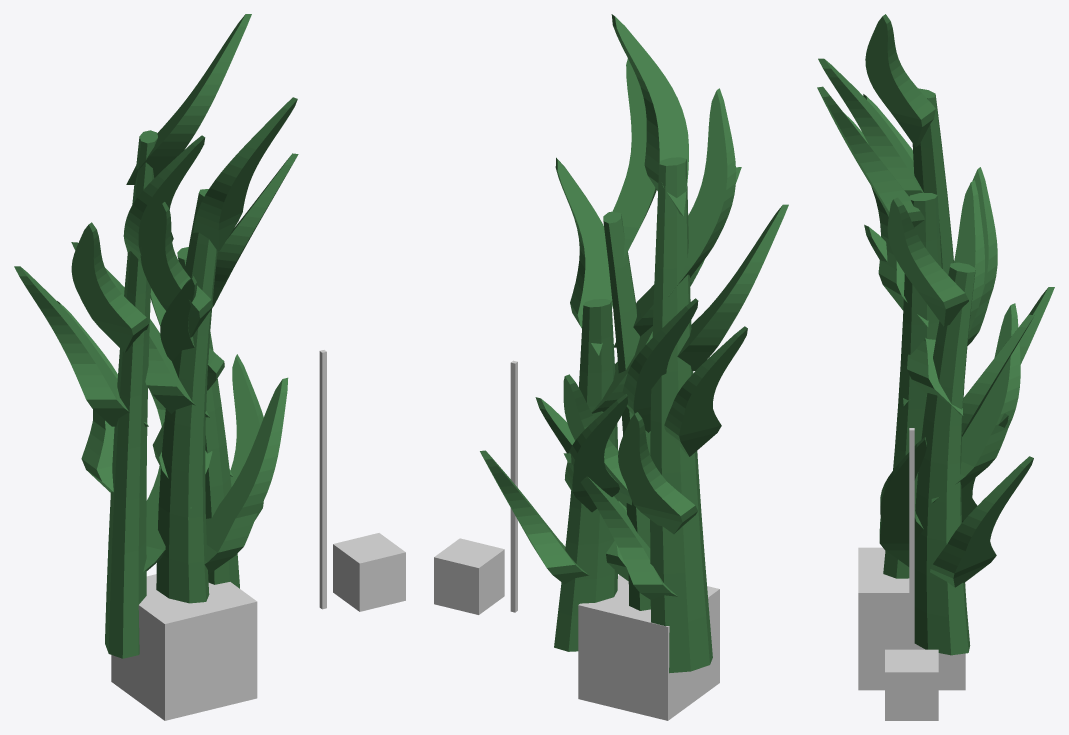
File: Kelp2_LOD0_roblox.fbx
The picture shows the model from 3 angles, left to right: view 1: azimuth 30°, elevation 25°; view 2: azimuth 150°, elevation 25°; view 3: azimuth 270°, elevation 25°; orthographic projection. The views are drawn at different scales.
Parts seen in each view (by area): view 1: Kelp_GreenMat, Ref_Head, 1_Stud_Cube, 5.3_Stud_Height_Ruler; view 2: Kelp_GreenMat, Ref_Head, 1_Stud_Cube, 5.3_Stud_Height_Ruler; view 3: Kelp_GreenMat, Ref_Head, 1_Stud_Cube, 5.3_Stud_Height_Ruler.
Part boxes in pixels (x1,y1,x2,y2): Kelp_GreenMat: (14, 14, 298, 658); Ref_Head: (111, 574, 257, 720); 1_Stud_Cube: (333, 533, 405, 611); 5.3_Stud_Height_Ruler: (319, 350, 326, 609); Kelp_GreenMat: (480, 14, 788, 673); Ref_Head: (578, 575, 719, 720); 1_Stud_Cube: (434, 538, 504, 614); 5.3_Stud_Height_Ruler: (510, 360, 517, 612); Kelp_GreenMat: (817, 14, 1054, 655); Ref_Head: (858, 547, 965, 690); 1_Stud_Cube: (885, 649, 938, 720); 5.3_Stud_Height_Ruler: (909, 428, 914, 649).
Size of the model in its own units: 7.44 by 4.43 by 13.92.
